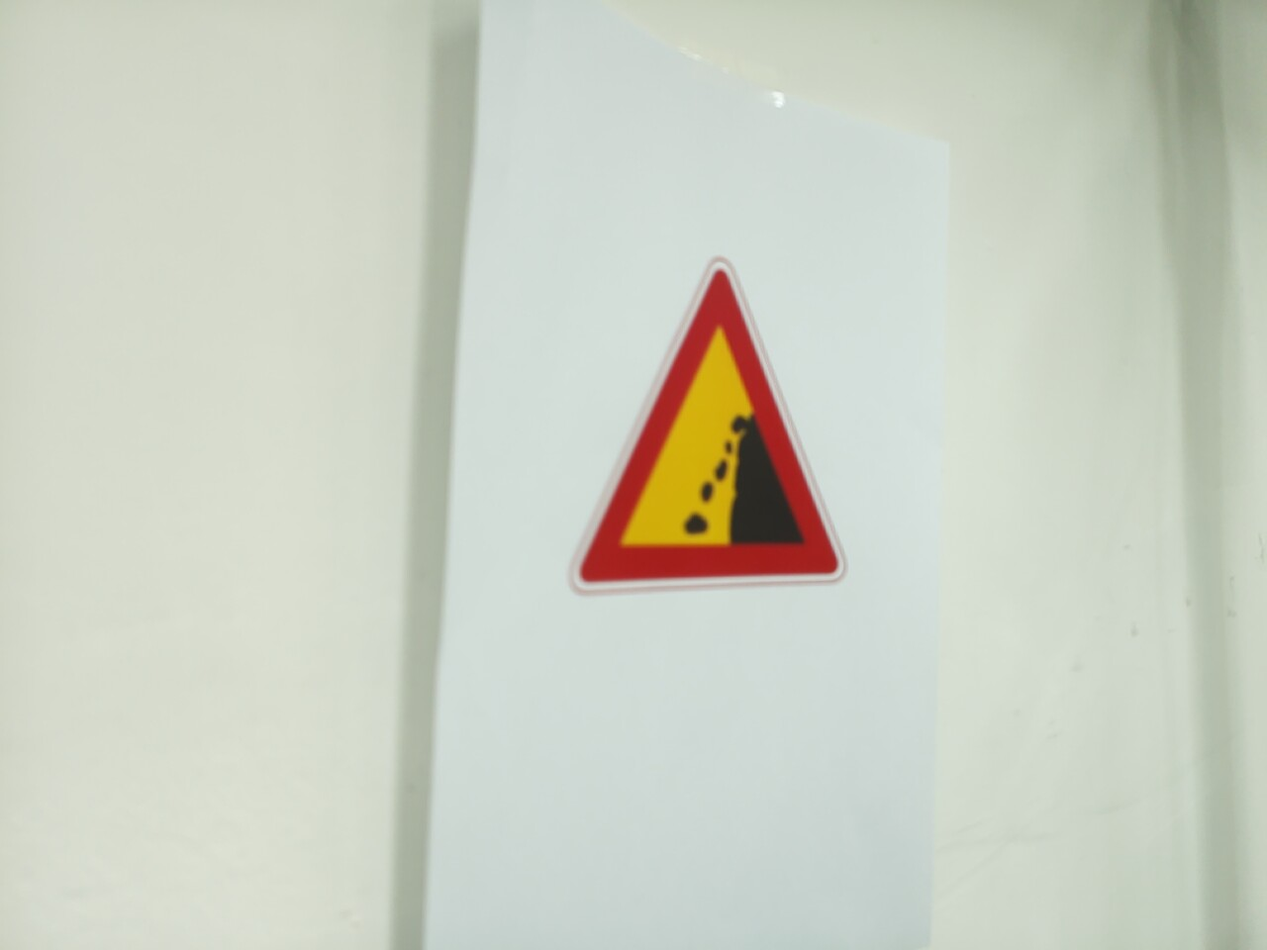falling_rocks: (571, 259, 847, 593)
